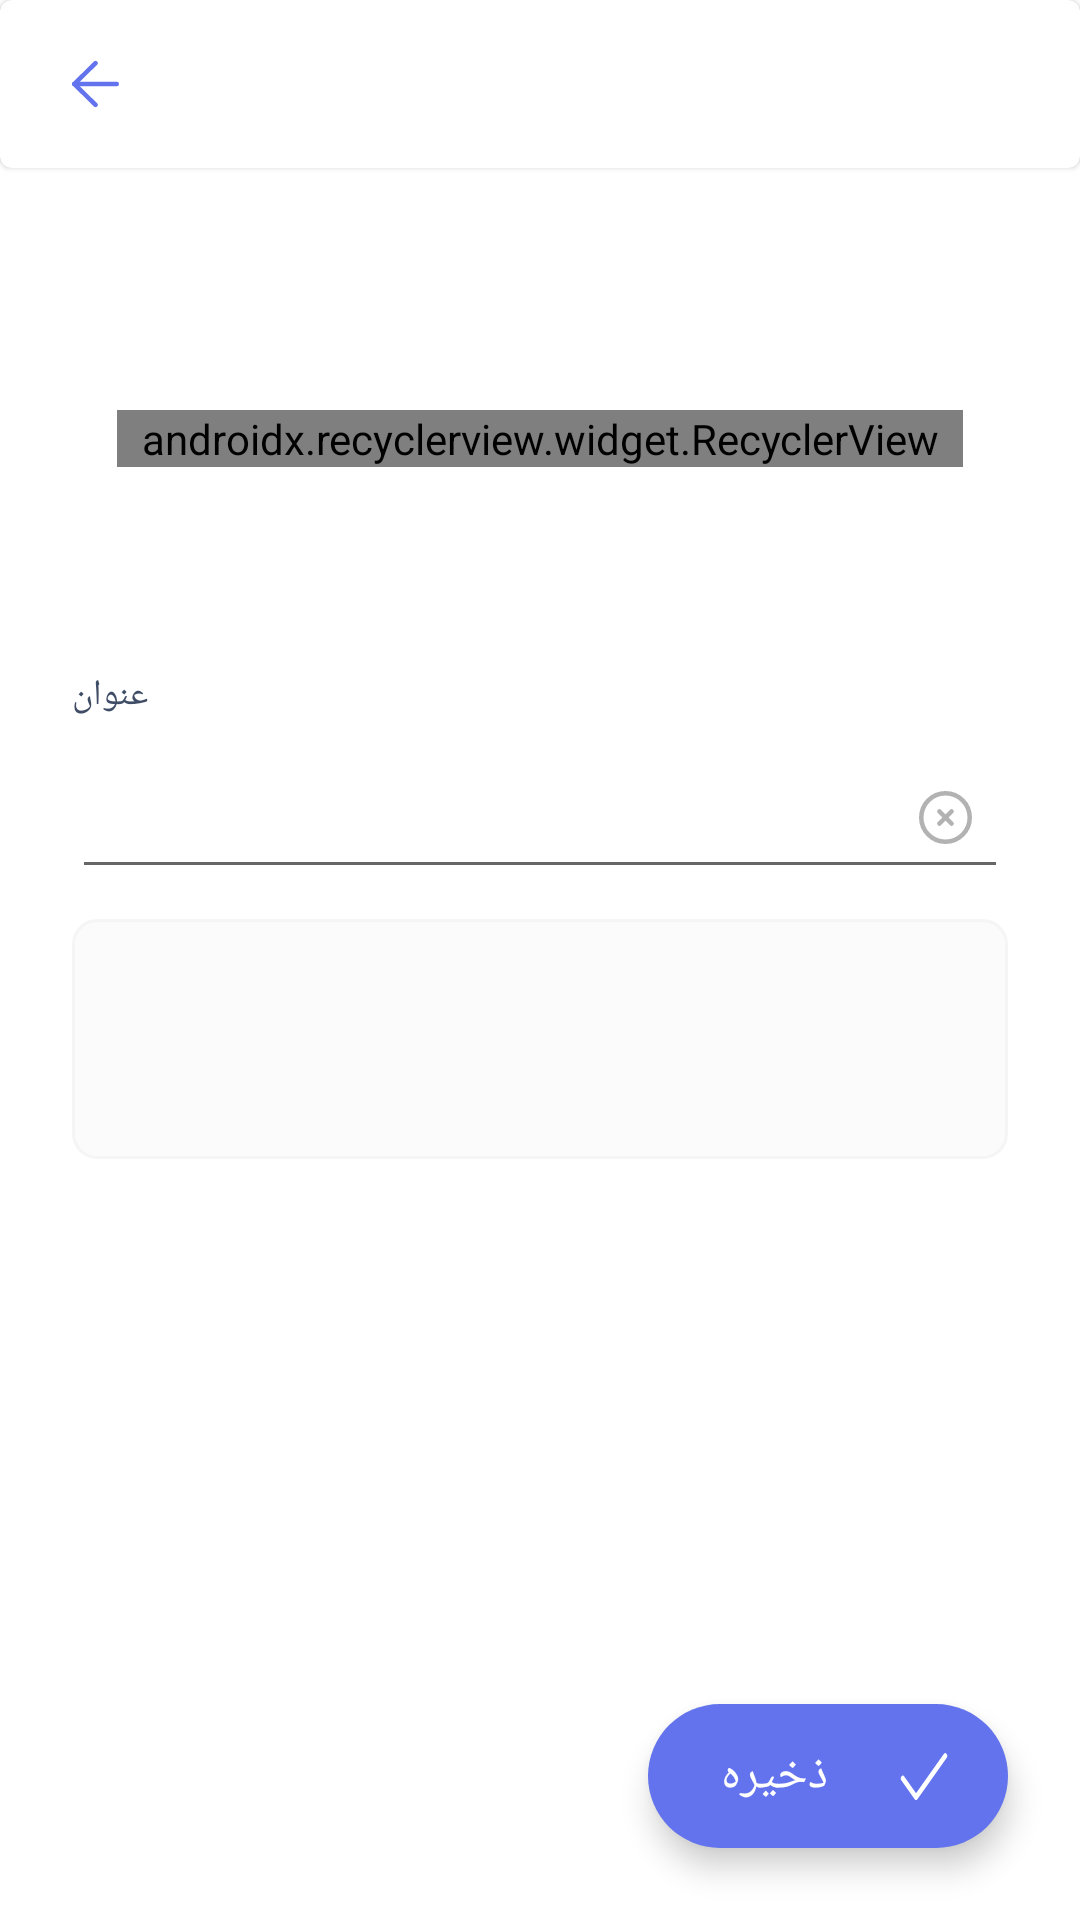

Point at icon controls on the screen. Image size 1080x1920, points as point (x, y).
clear: point (945, 817)
